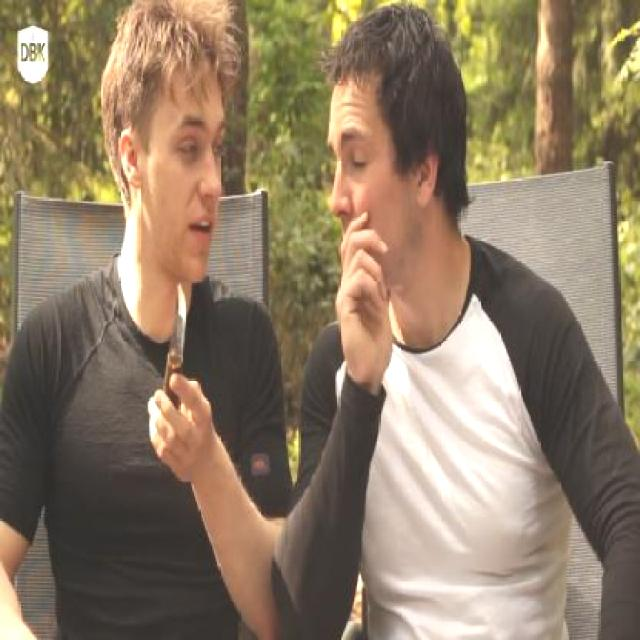knife: (142, 258, 218, 444)
